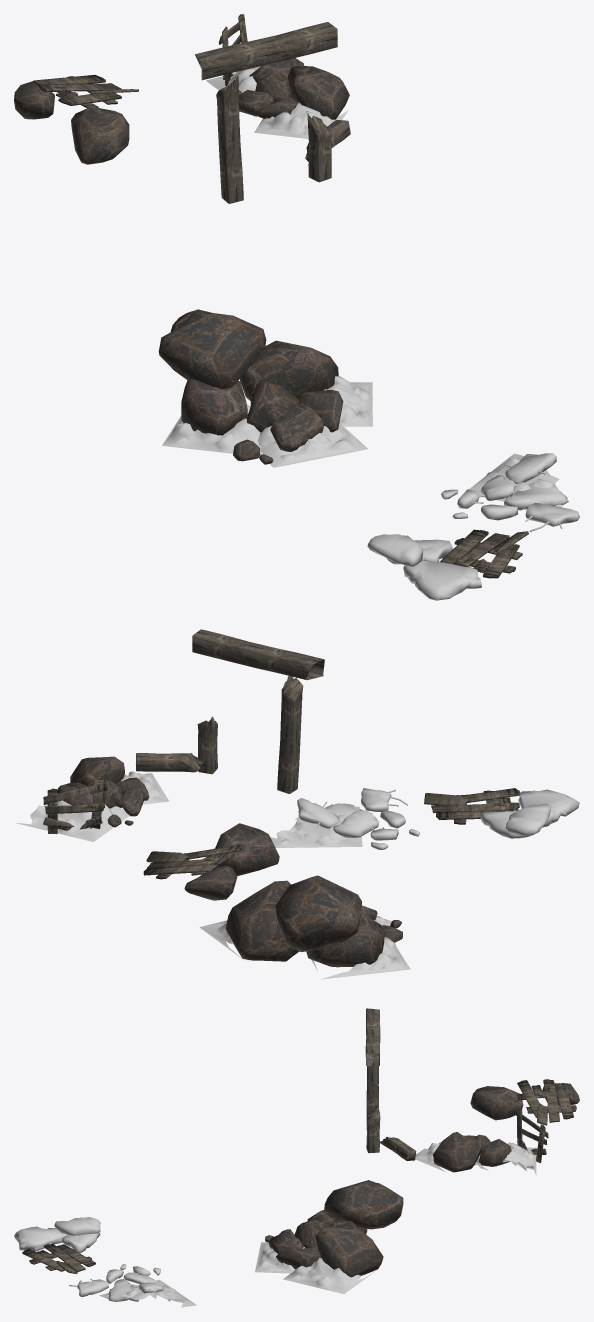
File: vertical_shaft_rough_terrain.dae
3 renders of one model, top to bottom at view 1: azimuth 30°, elevation 25°; view 2: azimuth 150°, elevation 25°; view 3: azimuth 270°, elevation 25°, orthographic. The views are drawn at different scales.
Visible parts, largest first — view 1: Rocks, Wood, RockPile, Concrete; view 2: Rocks, Wood, Concrete, RockPile; view 3: Rocks, Wood, RockPile, Concrete.
Boxes of the visible parts, <box> form: Rocks: <box>14,58,349,464</box>; Wood: <box>33,14,528,578</box>; RockPile: <box>162,66,562,507</box>; Concrete: <box>367,453,579,600</box>; Rocks: <box>57,756,402,967</box>; Wood: <box>43,629,519,879</box>; Concrete: <box>297,788,579,849</box>; RockPile: <box>16,771,410,979</box>; Rocks: <box>265,1083,579,1277</box>; Wood: <box>22,1008,576,1273</box>; RockPile: <box>99,1142,536,1307</box>; Concrete: <box>14,1217,165,1301</box>.
Bounding box in the file's own units: 7.34 × 18.61 × 8.56.
